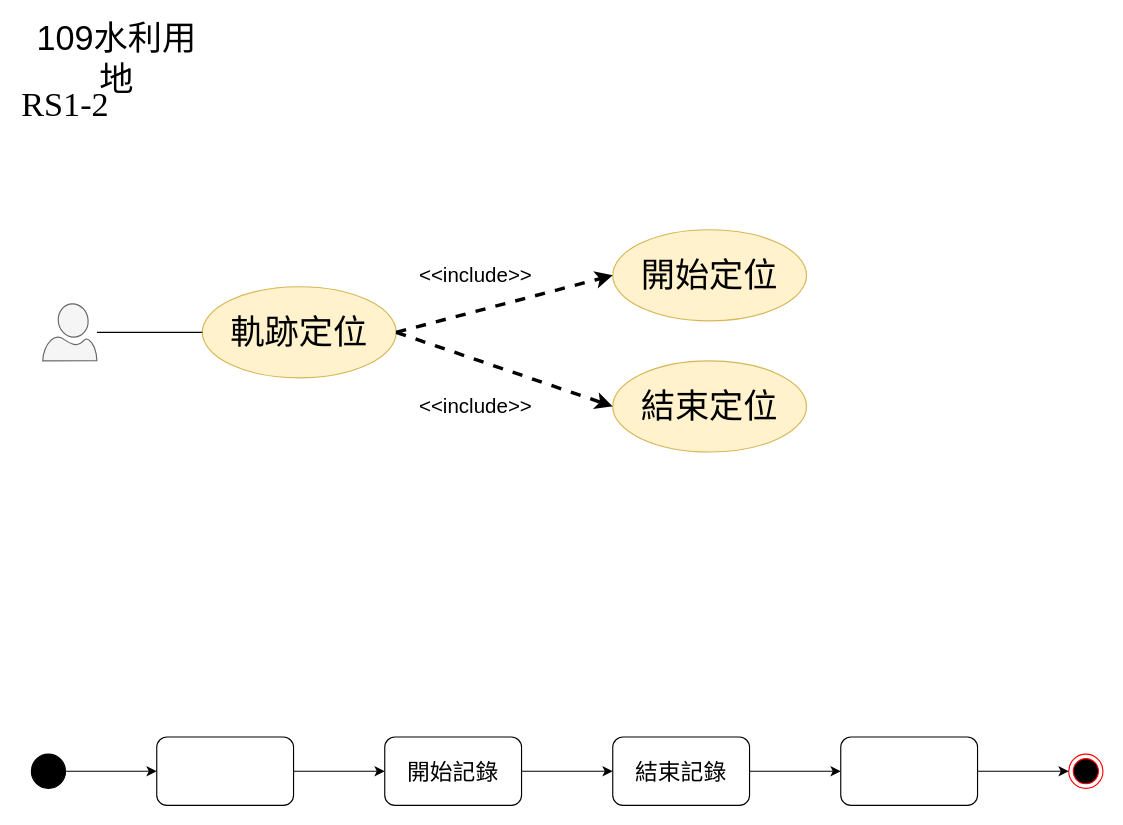
The diagram is 1123 pixels wide and 825 high, and some of its shapes have lost their labels. Each missing label, with the centre of its shape:
"登入 APP" goes at point 225,770.
"顯示已紀錄資料" goes at point 909,770.
